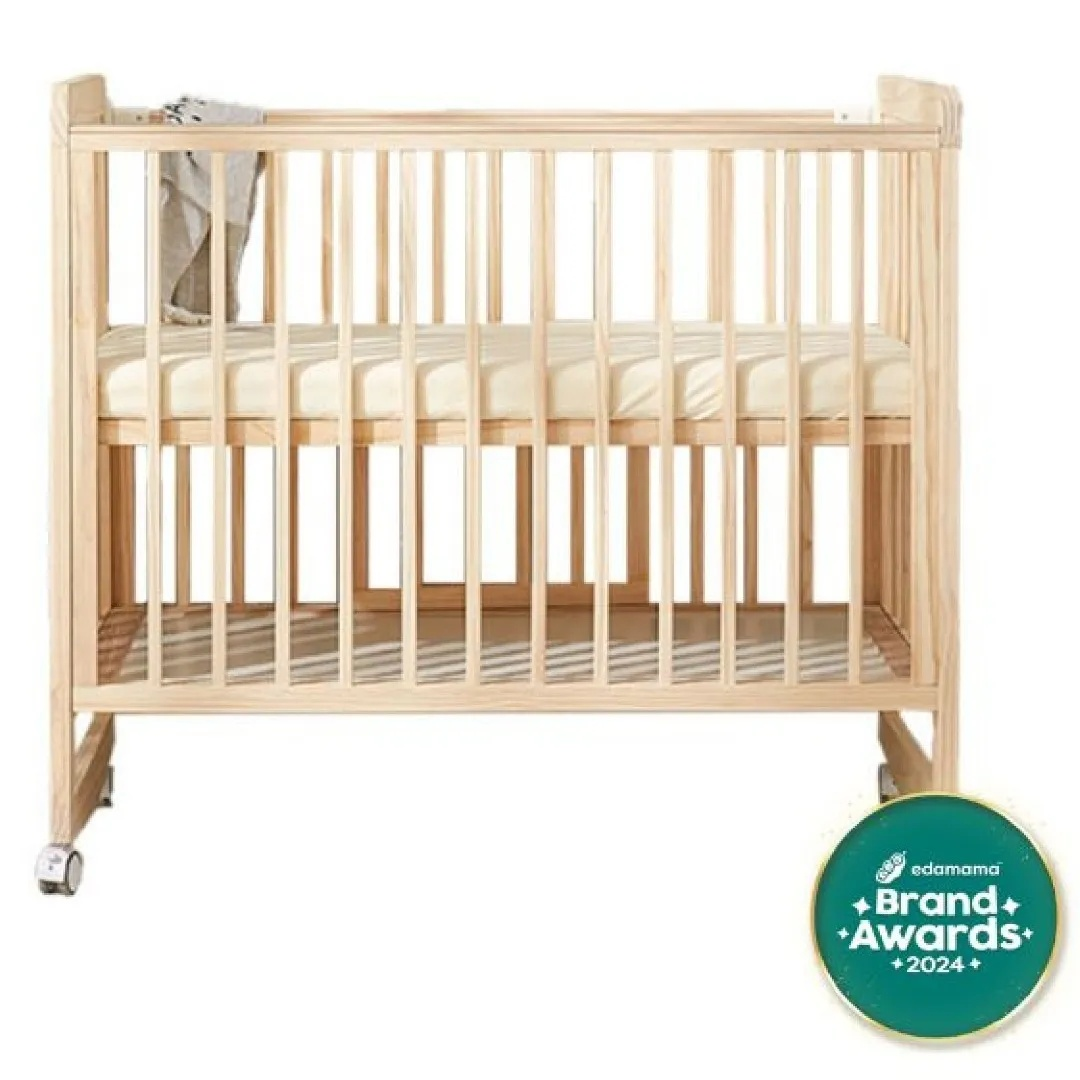crib: (46, 73, 963, 846)
